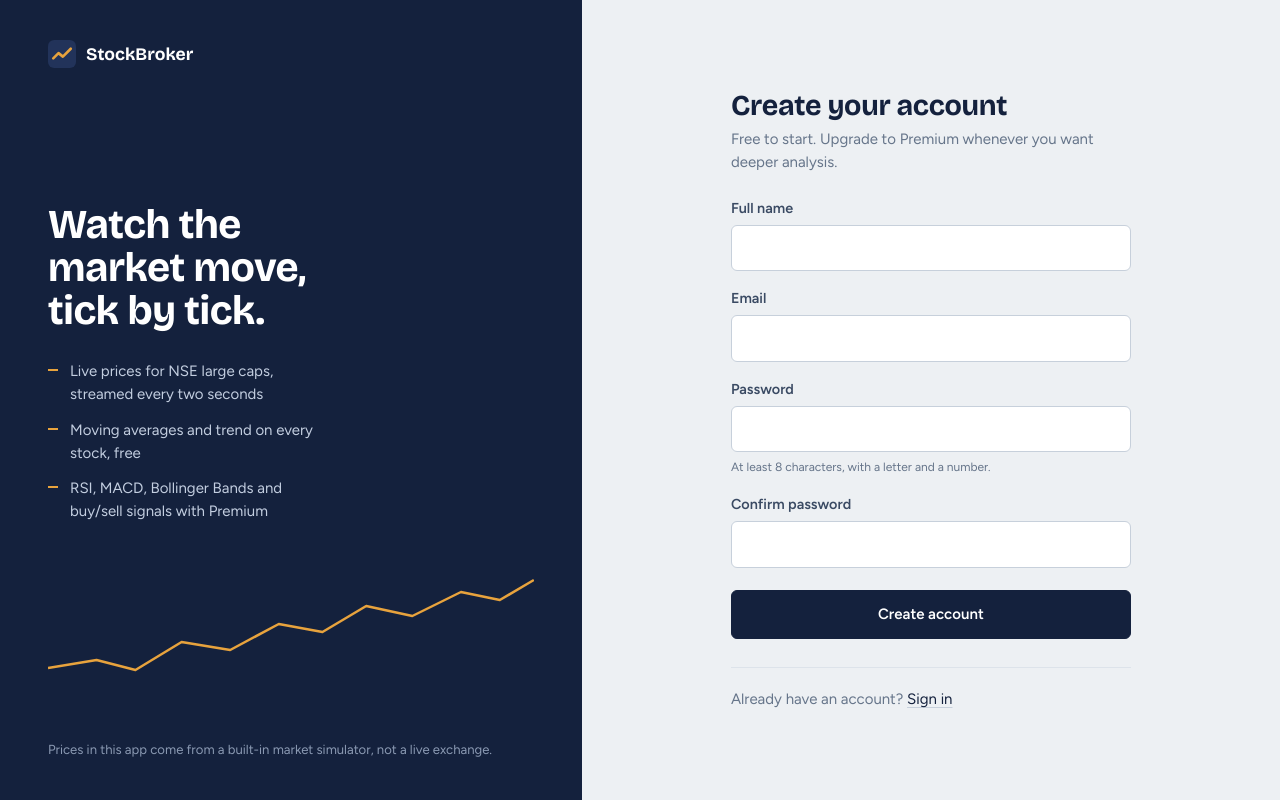
Test case: Sign-up page › shows a duplicate-email error from the server
The image size is (1280, 800).
In the field labelled "Full name": (931,248) [731,225,1131,271], type "Jane Trader"
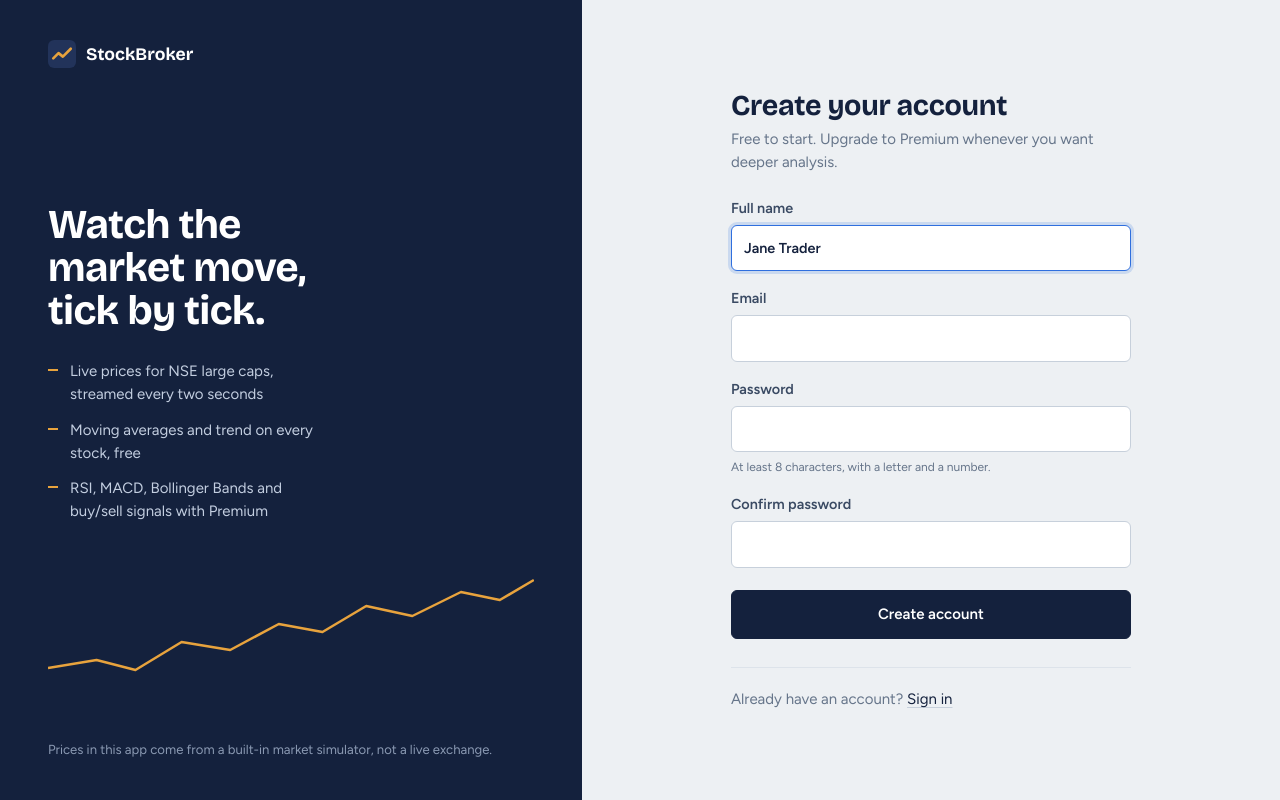
In the field labelled "Email": (931,339) [731,316,1131,362], type "jane@example.com"
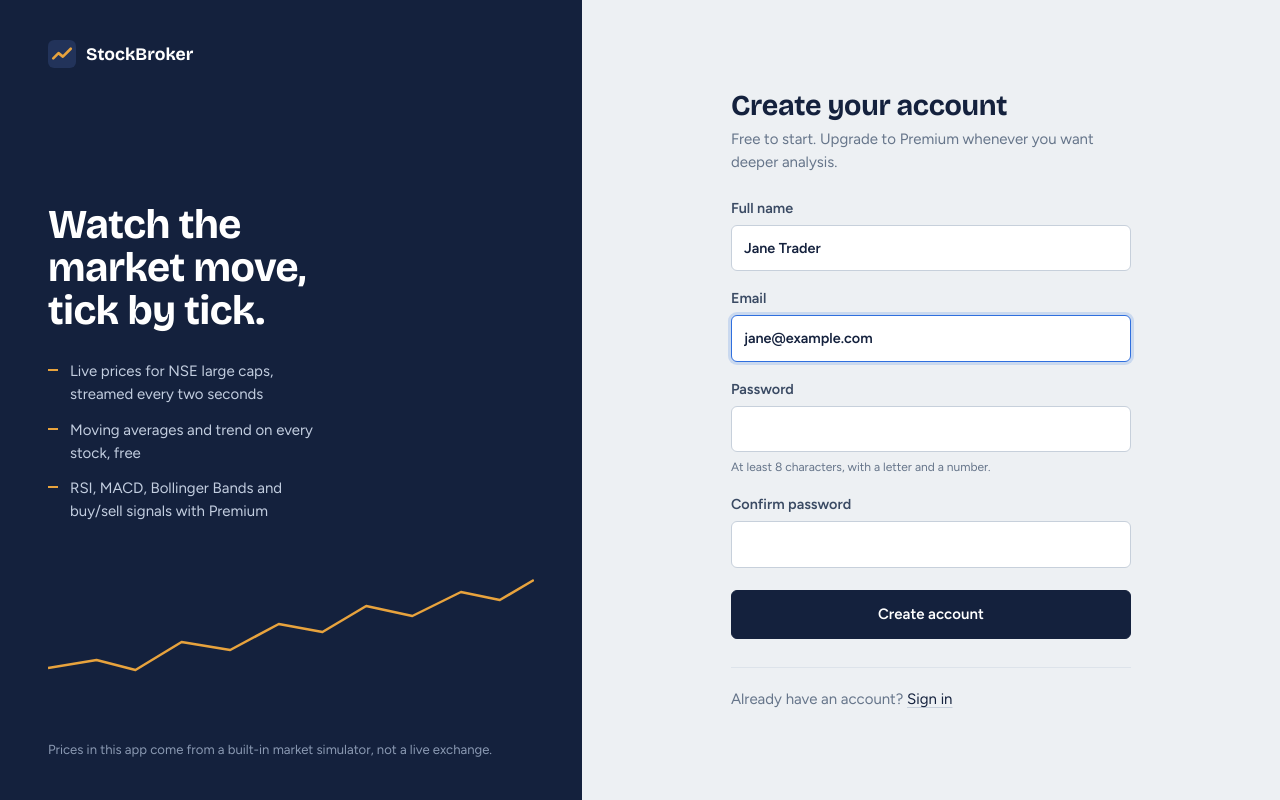
In the password field labelled "Password At least 8 characters, with a letter and a number.": (931,429) [731,406,1131,452], type "Secret123"
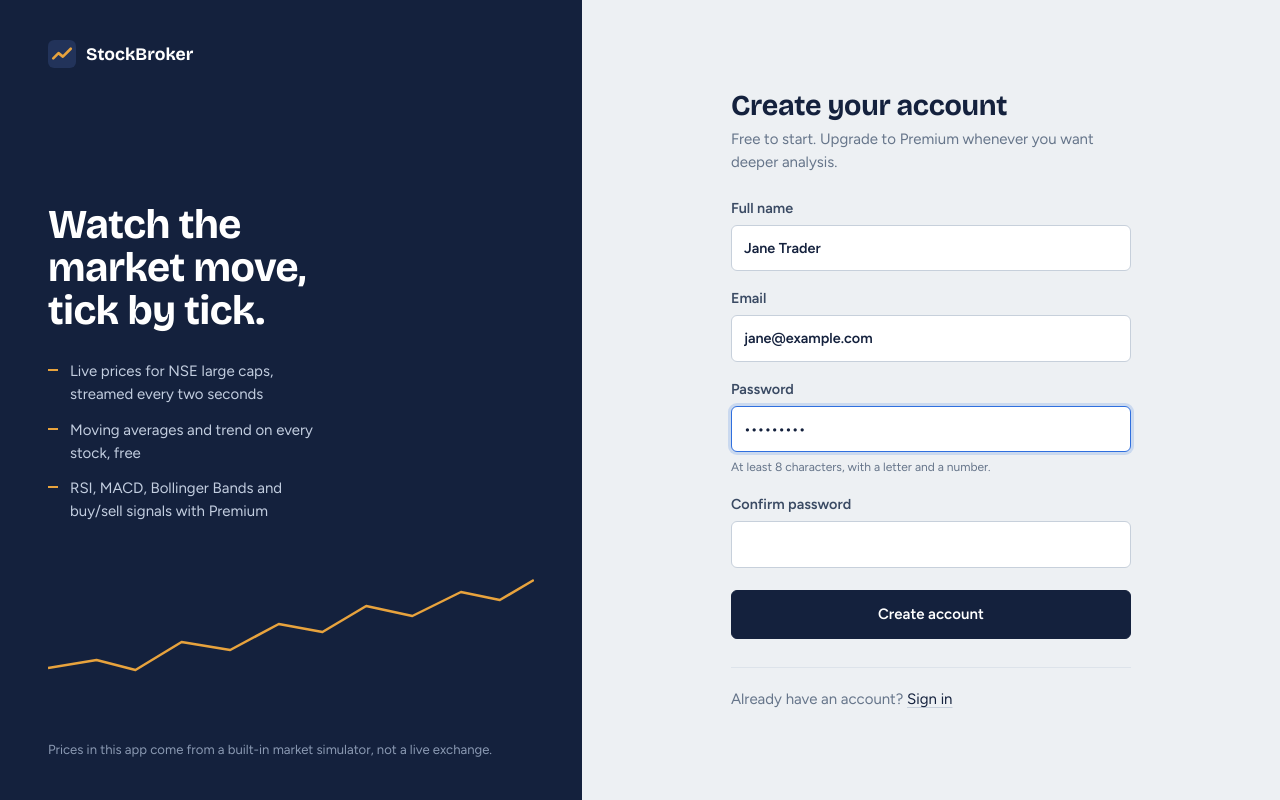
In the password field labelled "Confirm password": (931,544) [731,521,1131,568], type "Secret123"
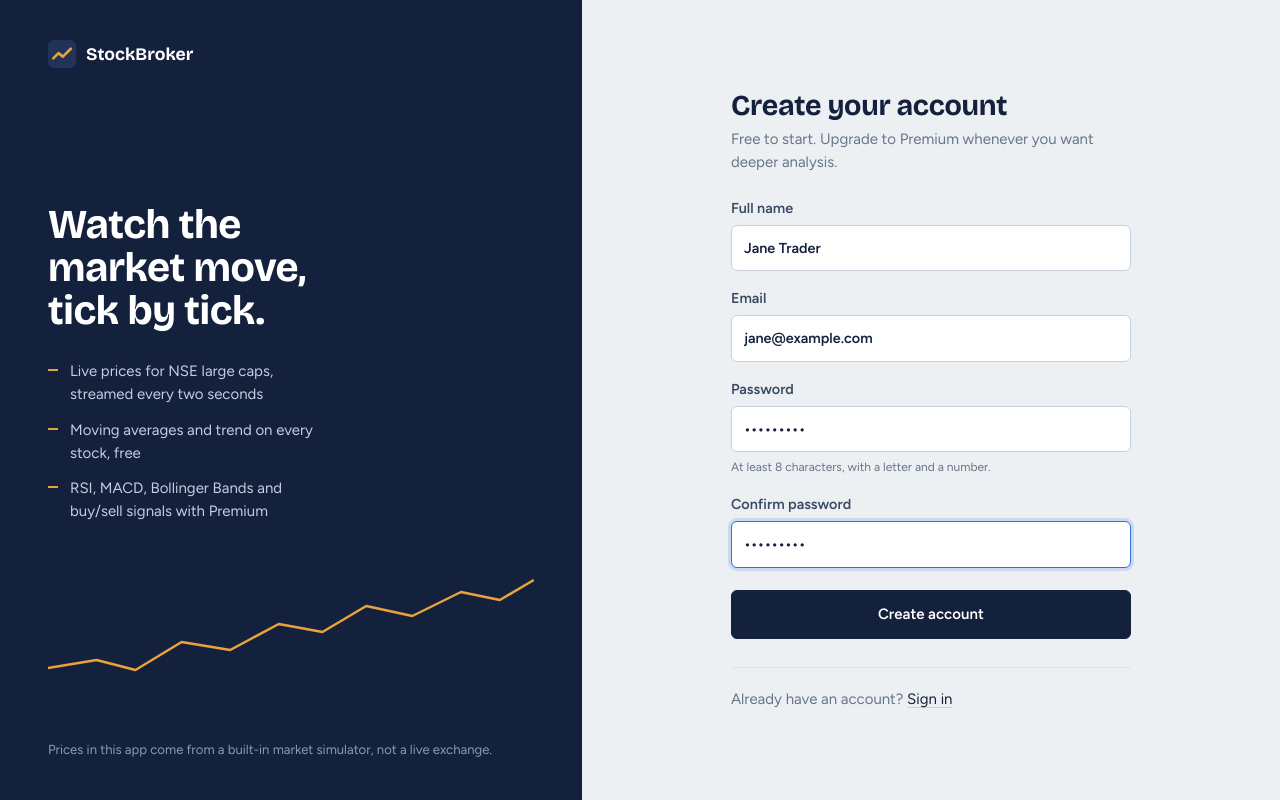
Click the button "Create account": (931,614) [731,590,1131,639]
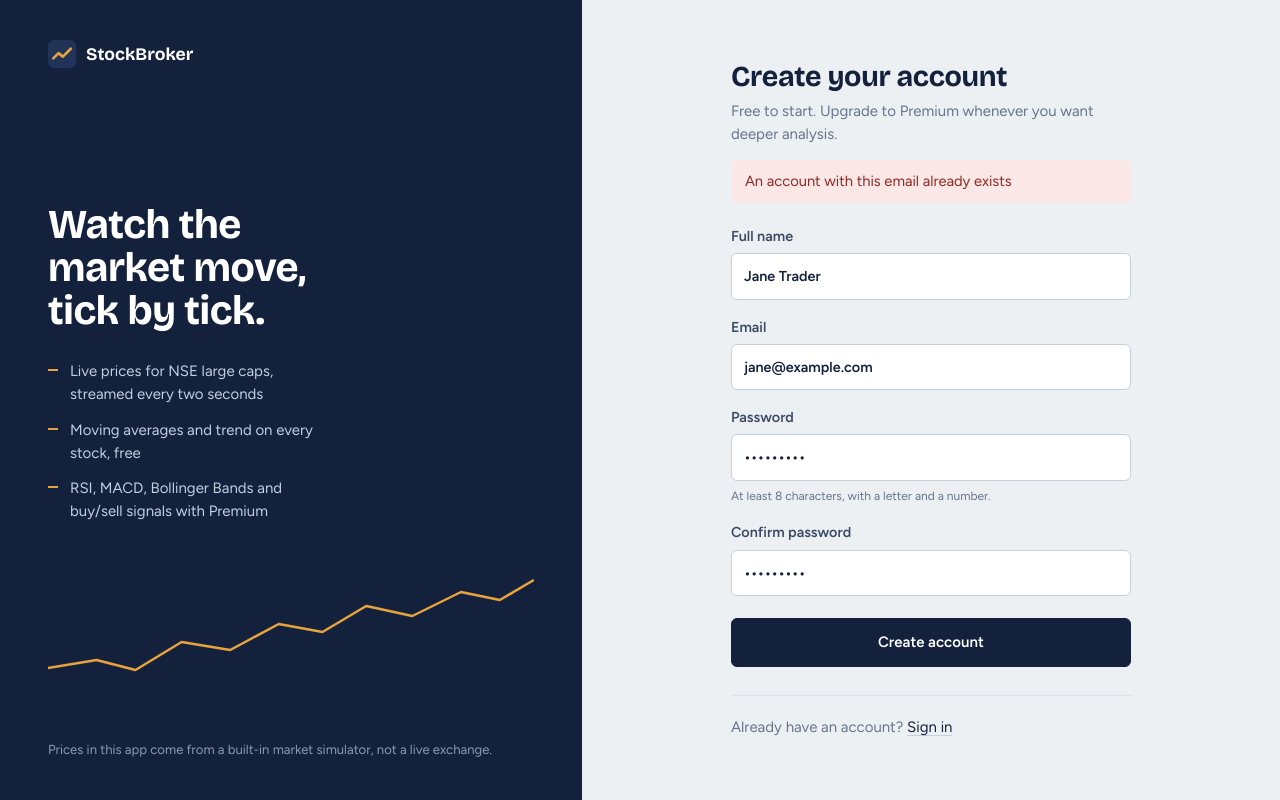
Check: the message shows "already exists", box [745,172,1012,190]
